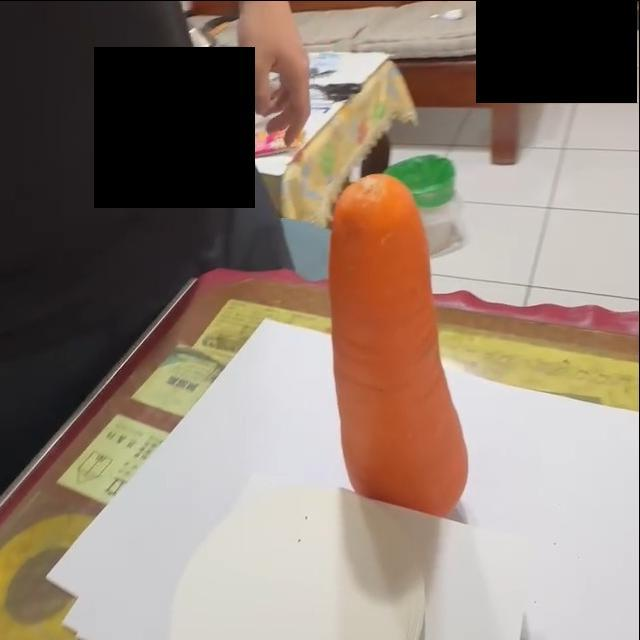carrot: (326, 174, 468, 512)
